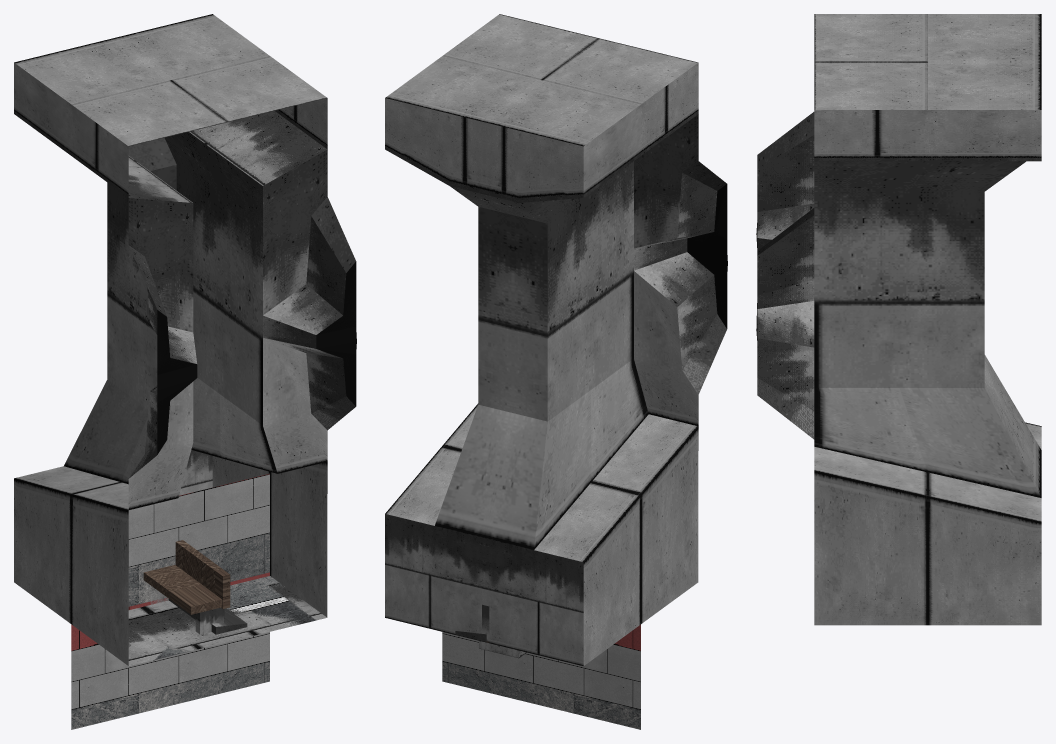
Rendered from NaveCentral_assets.fbx.
3 renders of one model, left to right at view 1: azimuth 30°, elevation 25°; view 2: azimuth 150°, elevation 25°; view 3: azimuth 270°, elevation 25°, orthographic.
Parts seen in each view (by area): view 1: NC_columna_central, NC_Pared, NC_columna_l, NC_columna_r, NC_Bench, NC_Suelo; view 2: NC_columna_central, NC_columna_l, NC_Pared; view 3: NC_columna_central, NC_columna_r.
Boxes of the visible parts, x1,y1,x2,y2 form: NC_columna_central: [14, 14, 356, 665]; NC_Pared: [71, 473, 269, 729]; NC_columna_l: [14, 62, 356, 665]; NC_columna_r: [157, 98, 327, 617]; NC_Bench: [143, 540, 247, 634]; NC_Suelo: [155, 576, 316, 659]; NC_columna_central: [385, 14, 727, 665]; NC_columna_l: [583, 62, 698, 665]; NC_Pared: [442, 624, 640, 729]; NC_columna_central: [757, 14, 1041, 521]; NC_columna_r: [756, 110, 1041, 625].
Bounding box in the file's own units: 402 × 1203 × 502.
